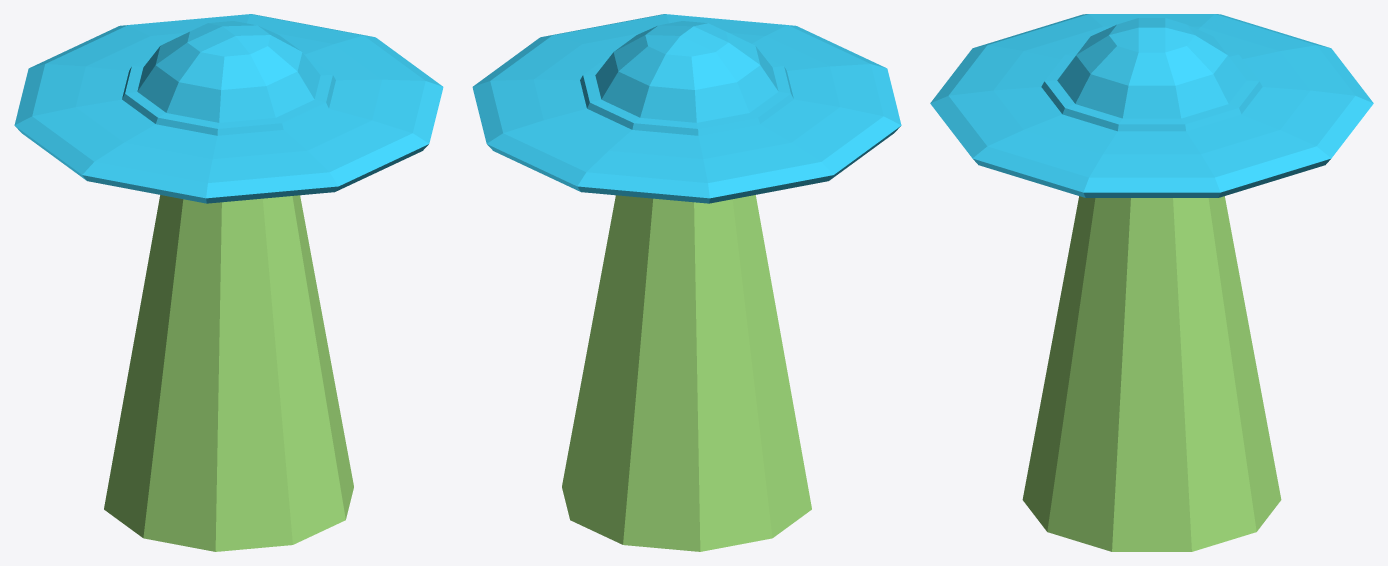
Rendered from 040_UFO.fbx.
3 renders of one model, left to right at view 1: azimuth 30°, elevation 25°; view 2: azimuth 150°, elevation 25°; view 3: azimuth 270°, elevation 25°, orthographic.
Parts seen in each view (by area): view 1: ufo; view 2: ufo; view 3: ufo.
Part boxes in pixels (x1,y1,x2,y2): ufo: [14, 14, 443, 551]; ufo: [472, 14, 901, 551]; ufo: [930, 14, 1373, 551].
Bounding box in the file's own units: 83.94 × 104 × 88.26.
